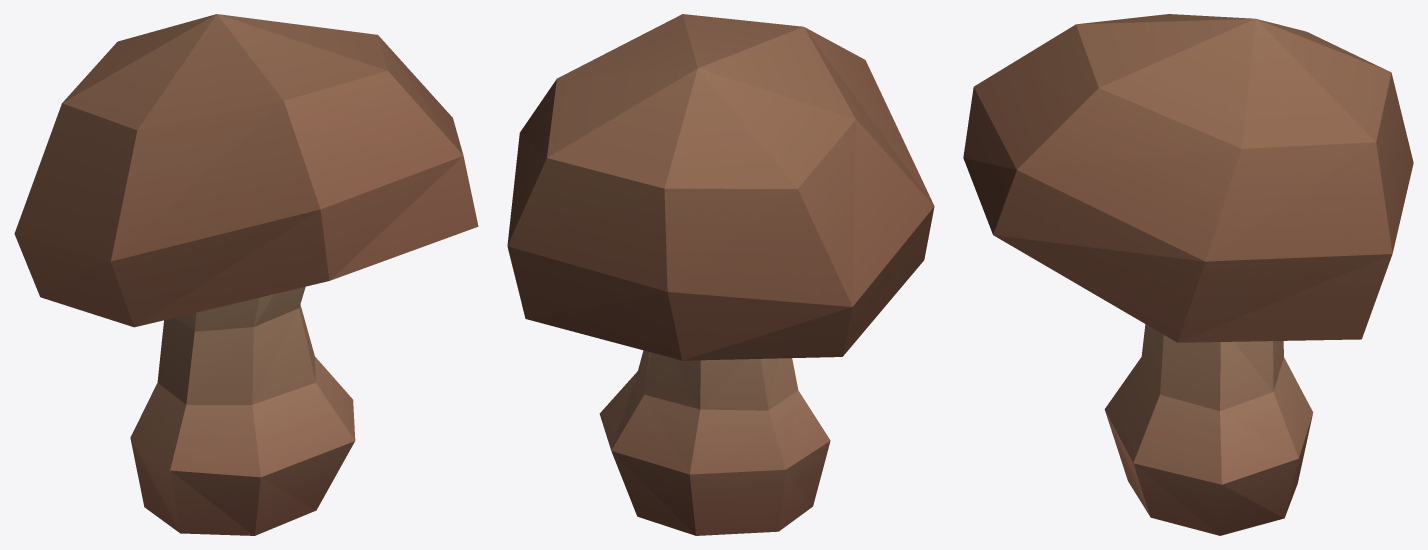
The model's file is Cavern_MushroomThick-01.fbx.
The picture shows the model from 3 angles, left to right: view 1: azimuth 30°, elevation 25°; view 2: azimuth 150°, elevation 25°; view 3: azimuth 270°, elevation 25°; orthographic projection. The views are drawn at different scales.
Visible parts, largest first — view 1: Cavern_MushroomThick-01; view 2: Cavern_MushroomThick-01; view 3: Cavern_MushroomThick-01.
Part boxes in pixels (x1,y1,x2,y2): Cavern_MushroomThick-01: (14,14,478,535); Cavern_MushroomThick-01: (507,14,934,535); Cavern_MushroomThick-01: (963,14,1413,535).
Size of the model in its own units: 44.23 by 50.62 by 43.38.
1 material, 1 textured.
